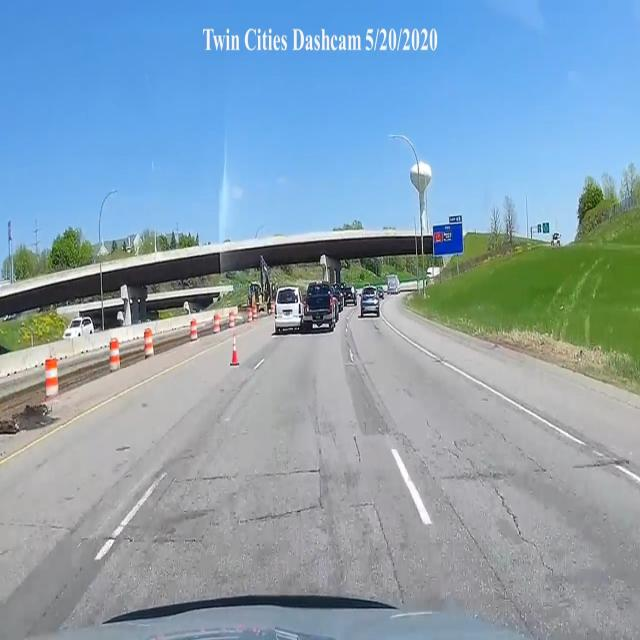Traffic Cone: (227, 333, 243, 369)
